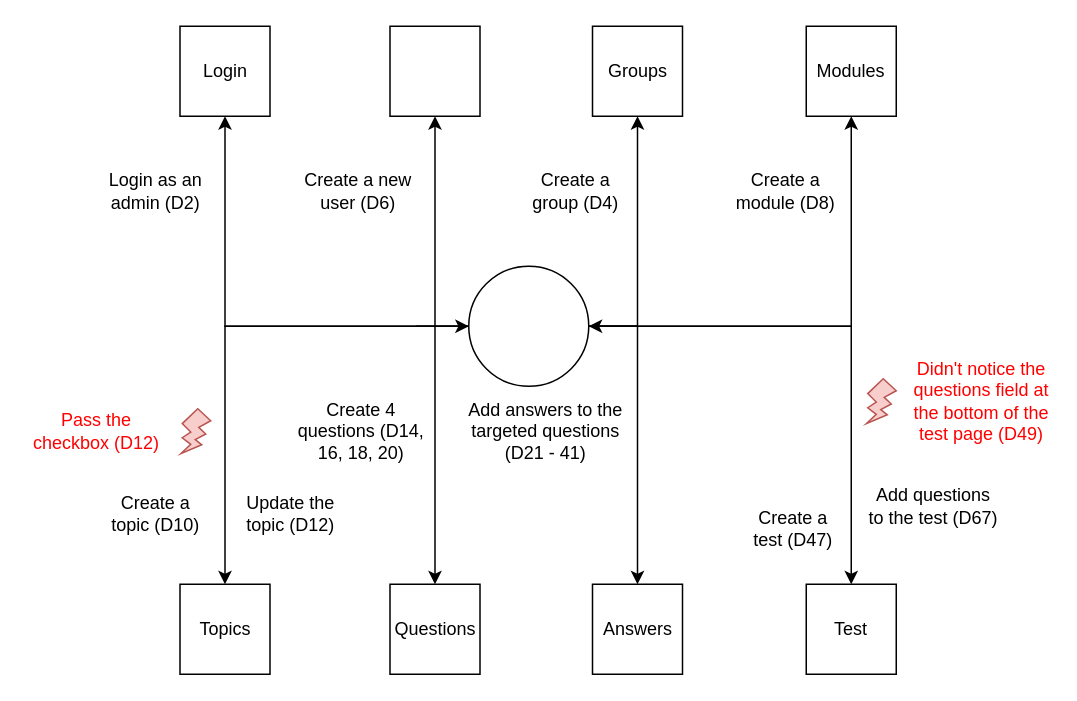
Some shapes in this 1077 by 701 pixel diagram are drawn without their labels. Here are the shapes that lost their labels. From the top down, the centre of each, then its label:
At point 434,70: "Users".
At point 528,325: "Participant 4".
